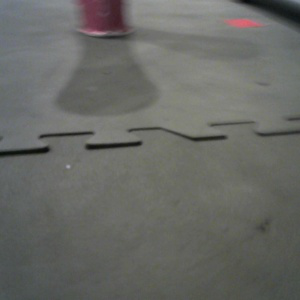Middle: (75, 1, 135, 38)
